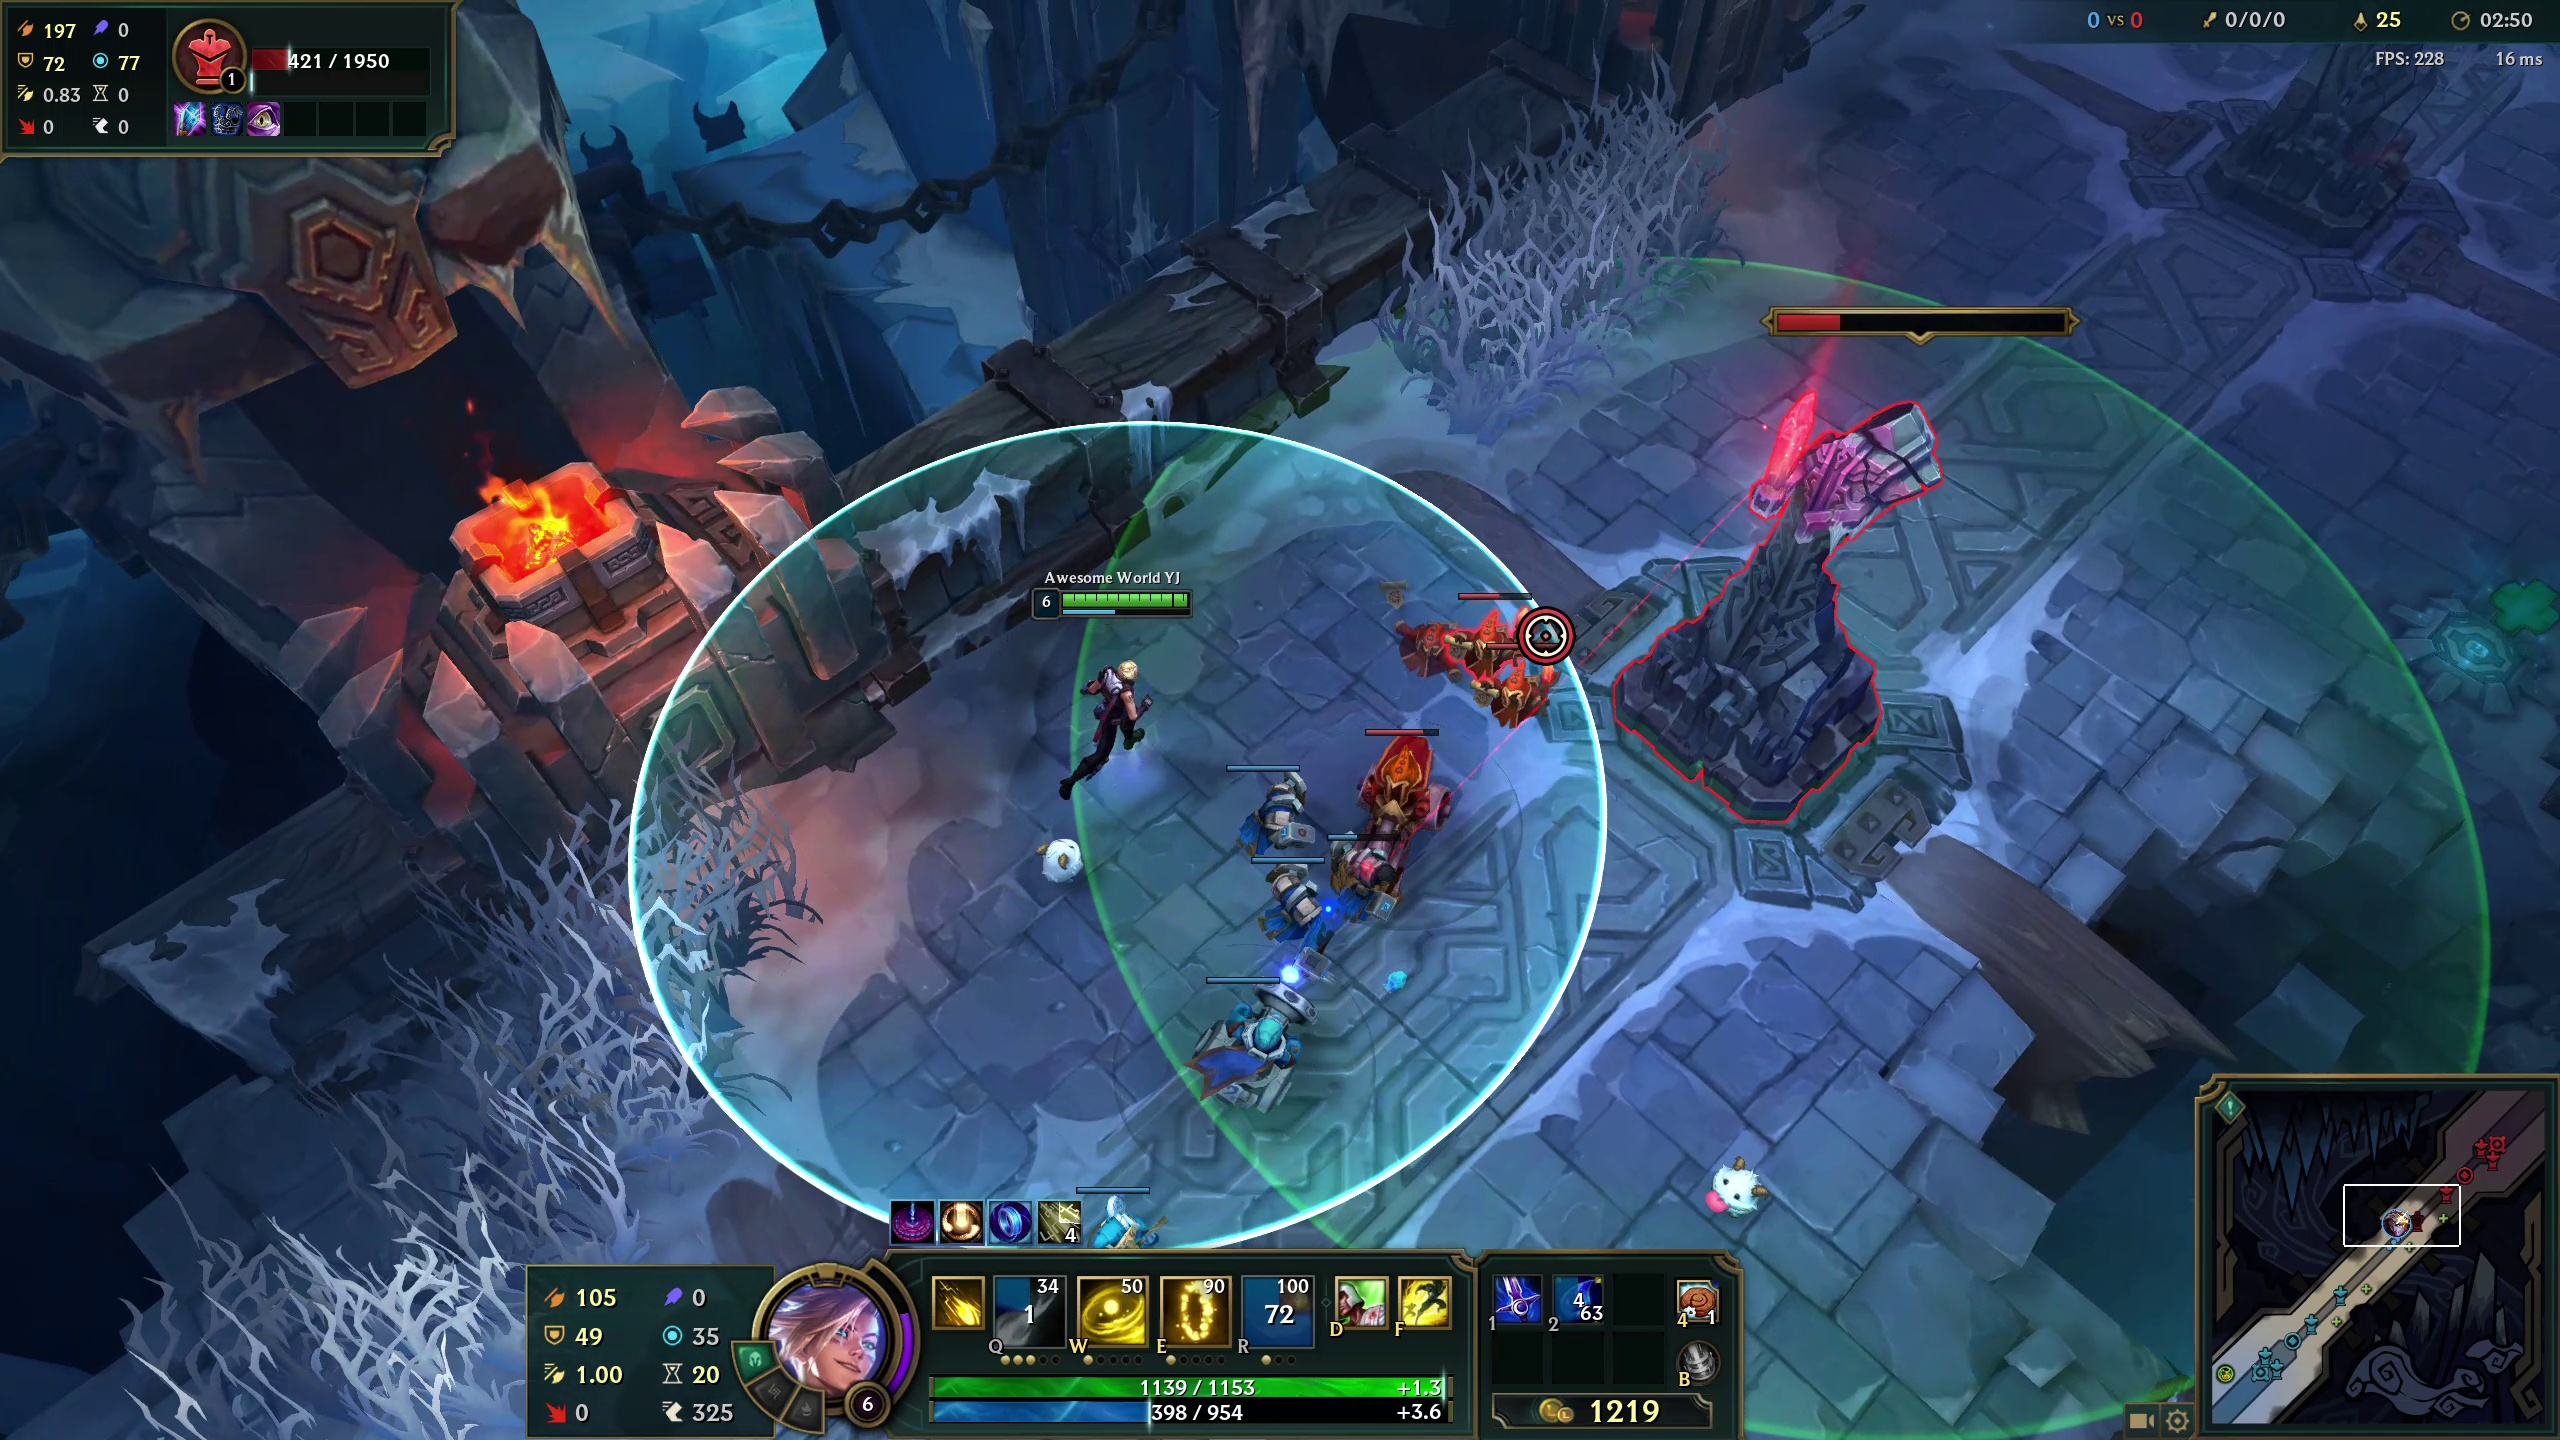EZ: (1030, 559, 1190, 800)
EnemyMinion: (1438, 587, 1514, 677), (1486, 640, 1561, 730)
EnemySuperMinnion: (1350, 730, 1452, 876)
Glass: (452, 849, 744, 1127), (1444, 132, 1704, 339), (190, 1262, 438, 1440)
MyMinion: (1238, 844, 1340, 944), (1220, 747, 1320, 847), (1087, 1180, 1166, 1248)
MySuperMinnion: (1175, 971, 1322, 1122)
Turret: (1725, 410, 1881, 786), (2265, 63, 2412, 229)
